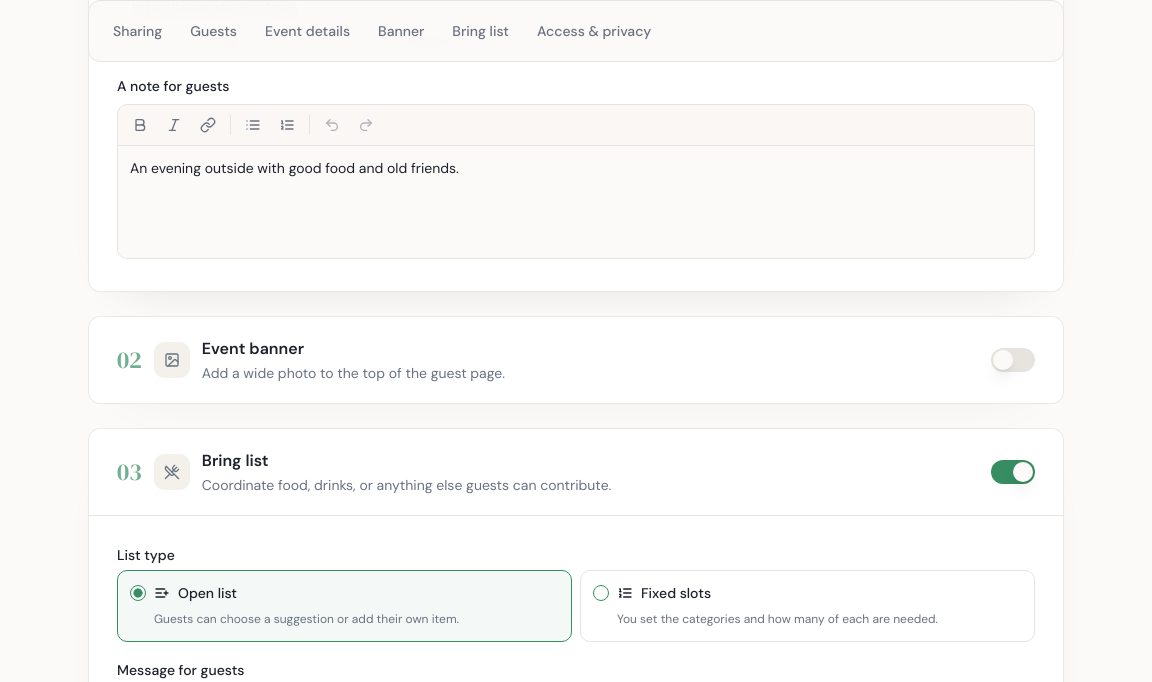
Scenario: AdminPage › opens the banner section only for an event that has one
The image size is (1152, 682).
(page scrolled)
Click the switch named "Add an event banner" at (1013, 360), box [991,348,1035,372]
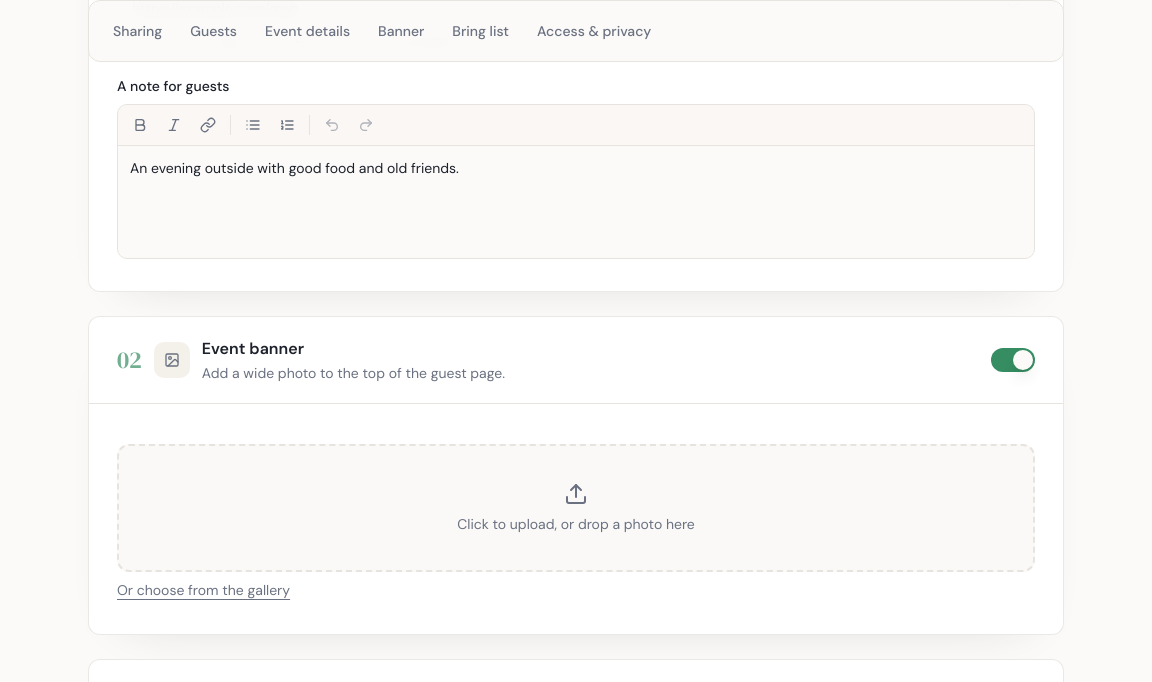
Check: the file field named "Banner photo" is shown, box [117,444,1035,572]
